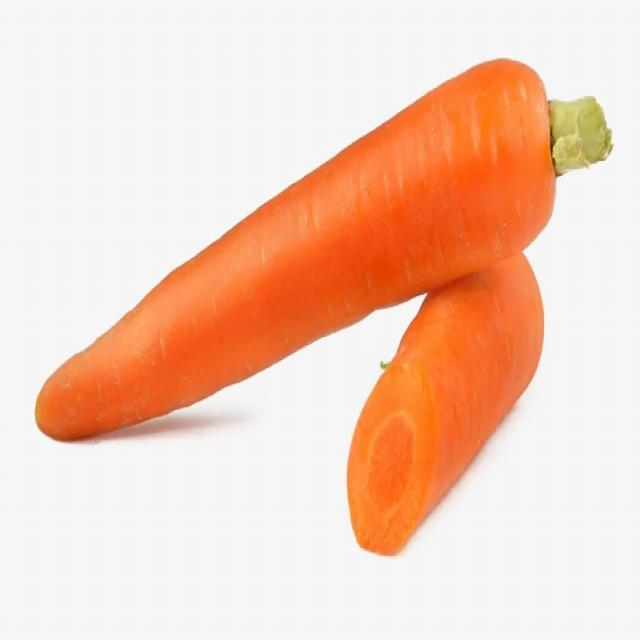Carrot: (34, 61, 554, 444), (348, 250, 544, 550)
